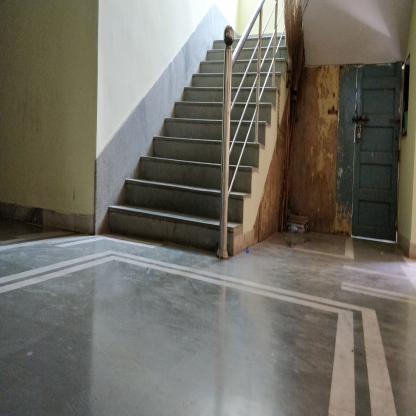stairs: (176, 101, 217, 259)
